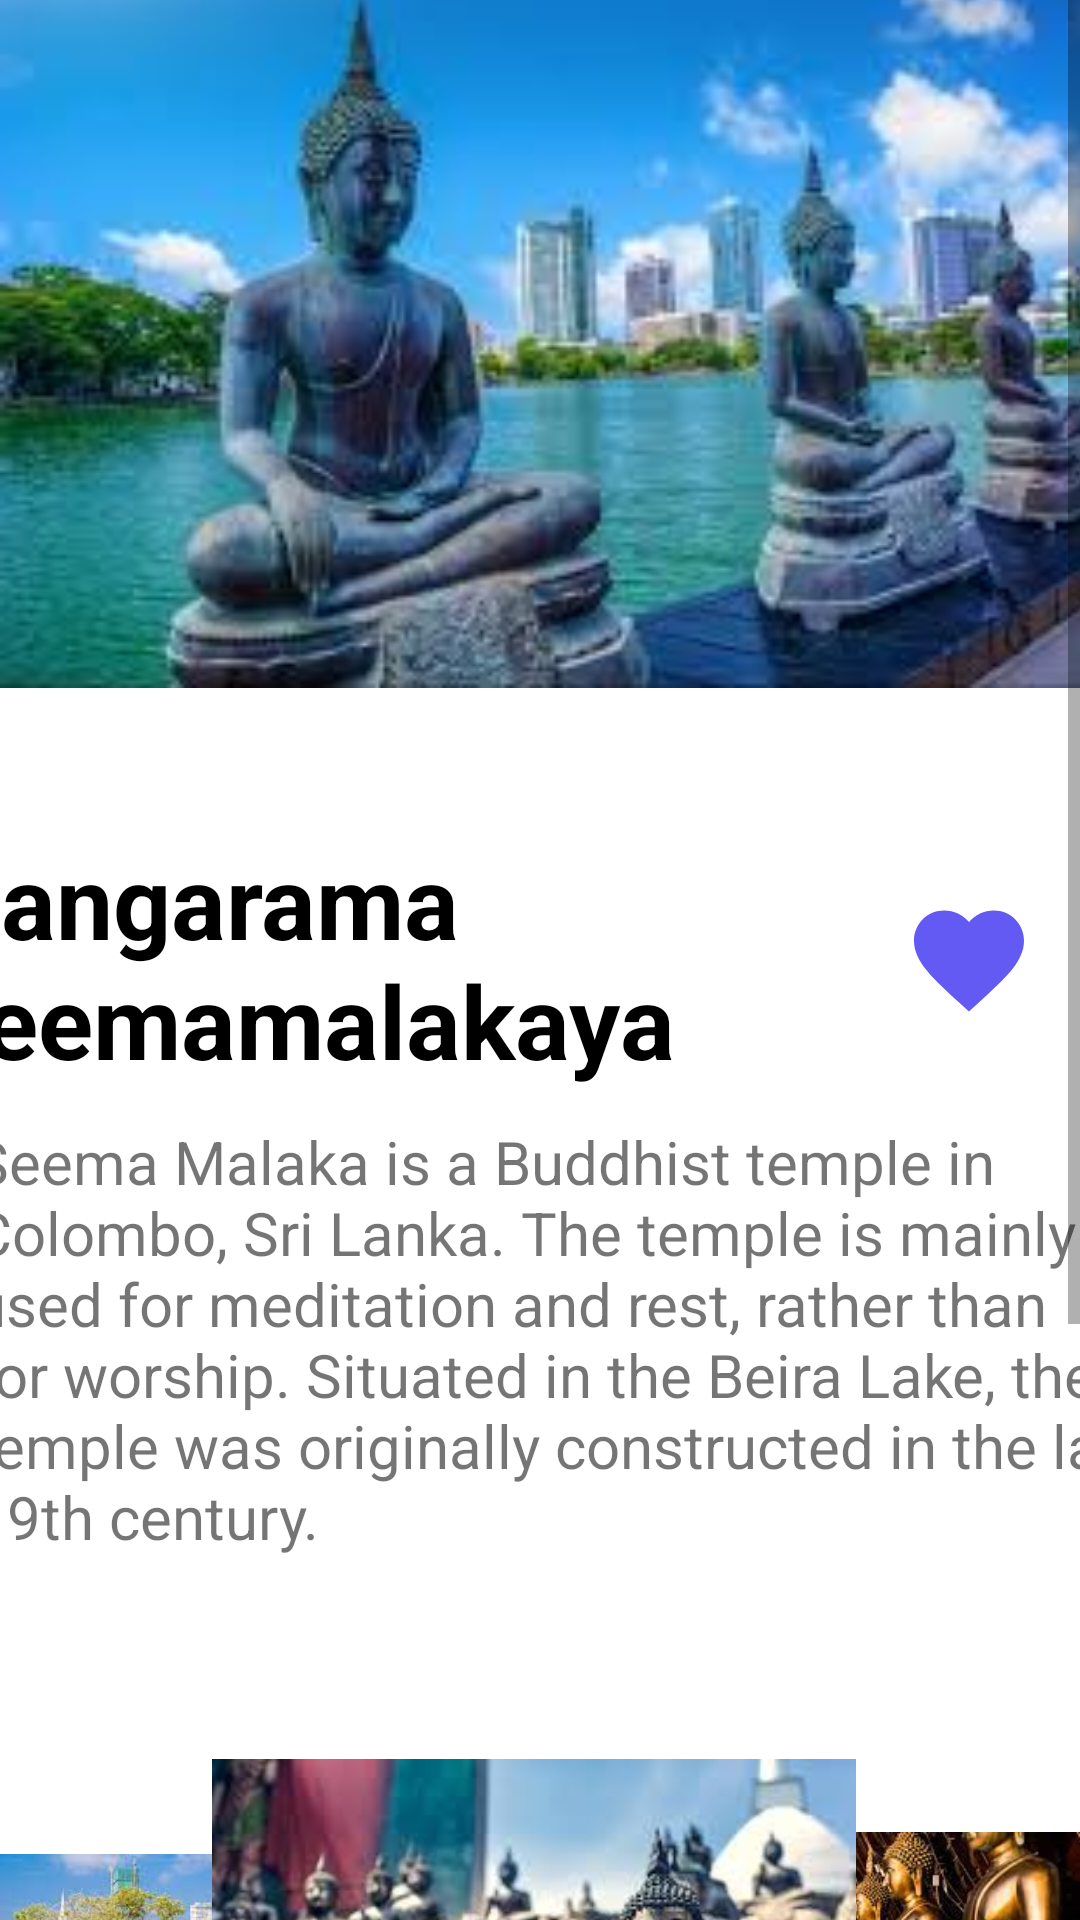

Named icons in this screenshot (1080 × 1920) and their bounding boxes, bbox(x1, y1, x2, y2):
favorite: bbox(914, 910, 1024, 1011)
